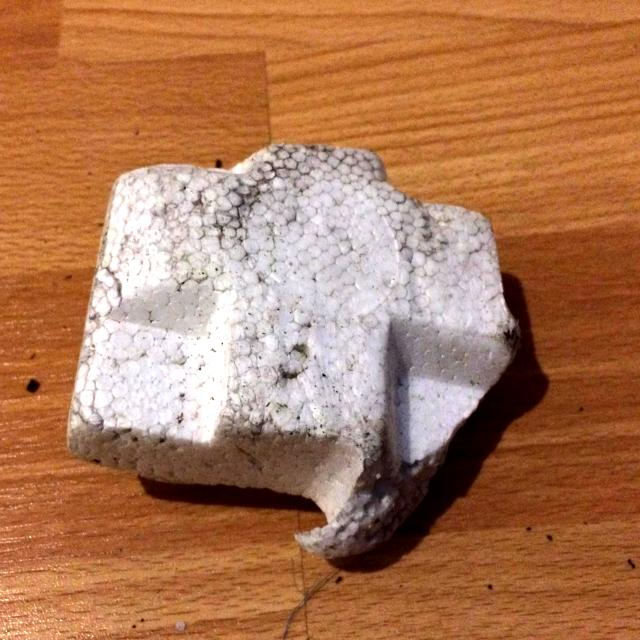Trash: (54, 136, 528, 566)
